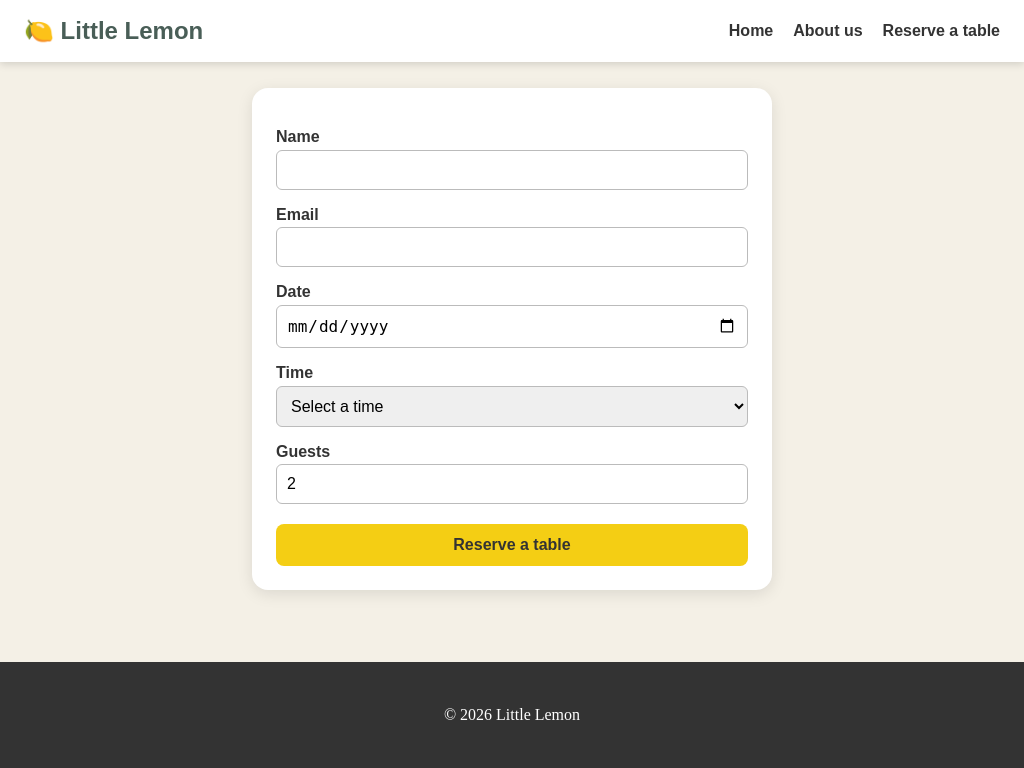
Test: booking form › shows errors and marks fields invalid on empty submit
(page scrolled)
Click the button "Reserve a table". click: {"x": 512, "y": 545}
box: top-left (276, 524), bottom-right (748, 566)
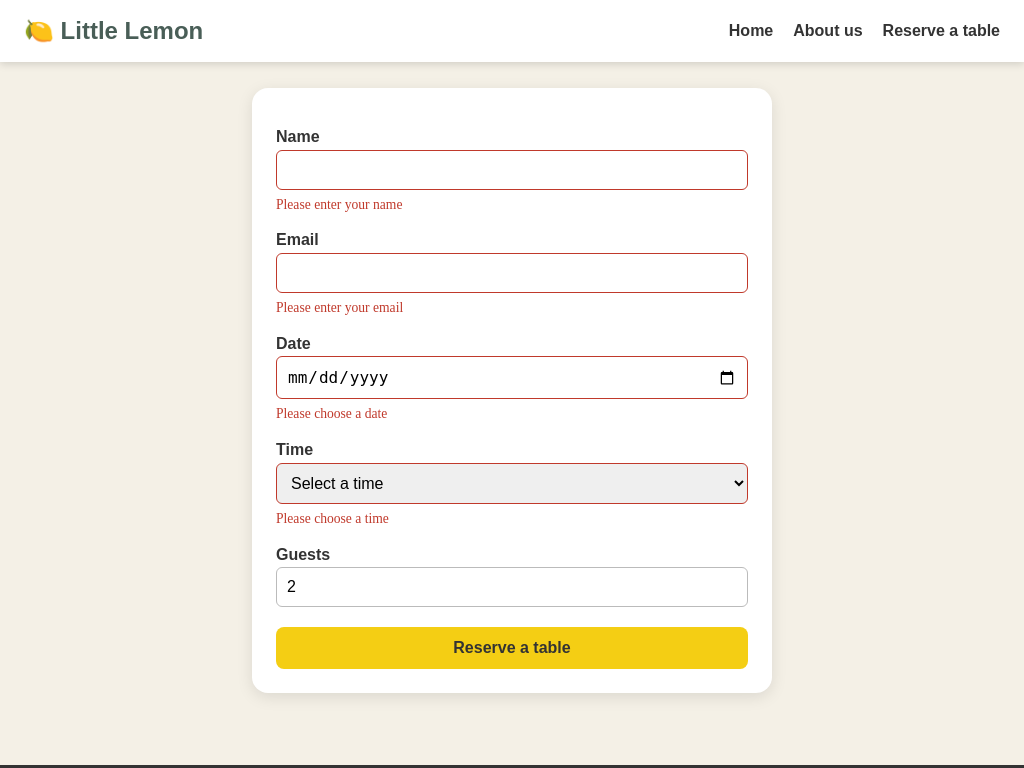
Expected: the text "Please enter your name" is shown, top-left (276, 197), bottom-right (402, 212)
